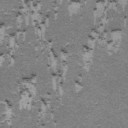oxide scale of temperature system: (0, 0, 68, 114), (82, 0, 128, 71), (0, 73, 36, 128), (68, 0, 82, 16), (74, 73, 83, 93), (41, 124, 46, 126)
